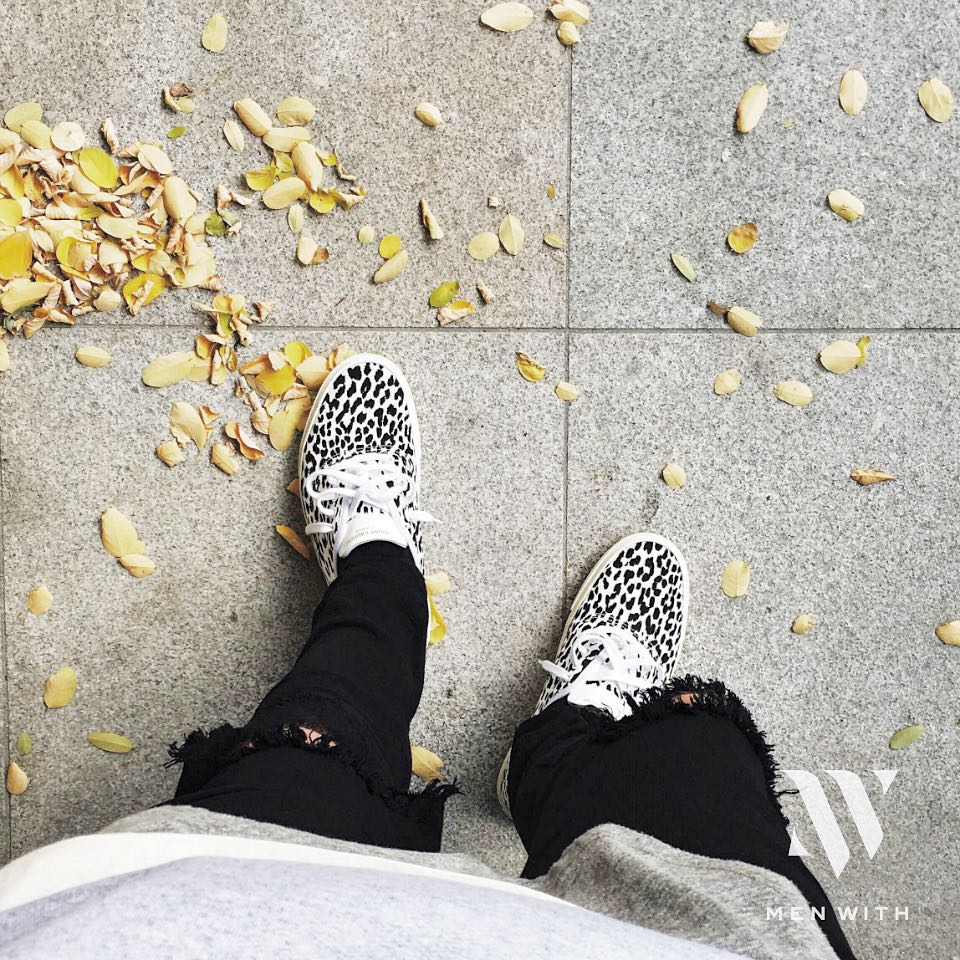sneaker: (474, 516, 709, 843), (272, 338, 454, 660)
